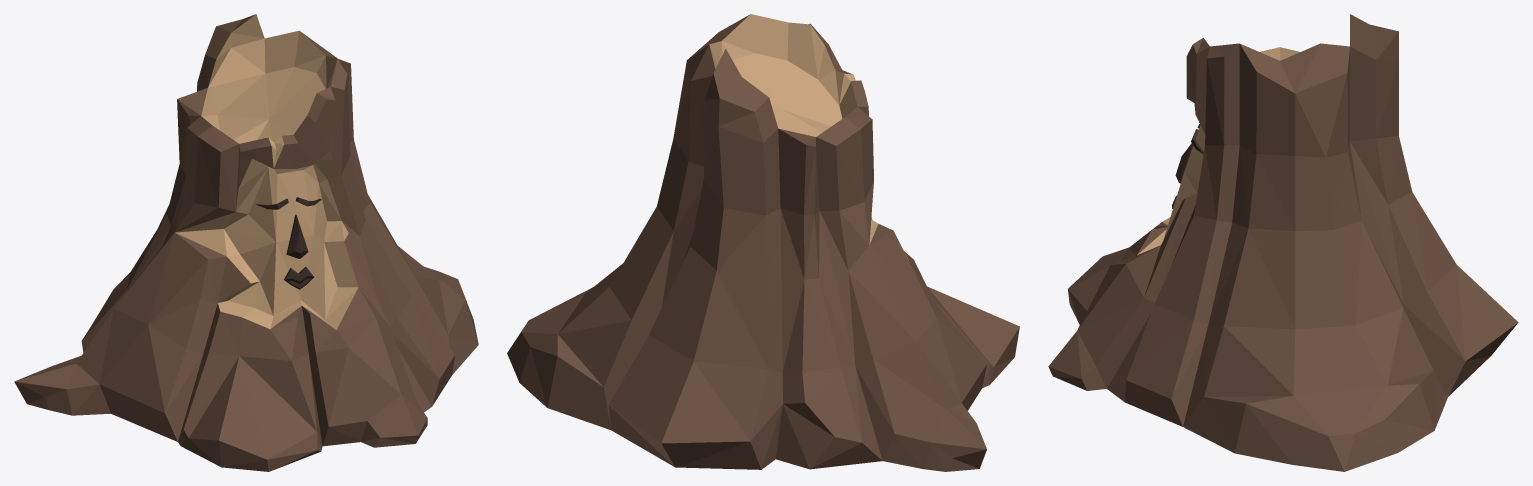
Rendered from _stump_3.fbx.
3 renders of one model, left to right at view 1: azimuth 30°, elevation 25°; view 2: azimuth 150°, elevation 25°; view 3: azimuth 270°, elevation 25°, orthographic. The views are drawn at different scales.
Visible parts, largest first — view 1: stump_3; view 2: stump_3; view 3: stump_3.
Boxes of the visible parts, box(x1,y1,x2,y2) form: stump_3: box(14, 14, 478, 471); stump_3: box(507, 14, 1019, 471); stump_3: box(1048, 14, 1518, 471).
Size of the model in its own units: 197 by 140 by 169.
